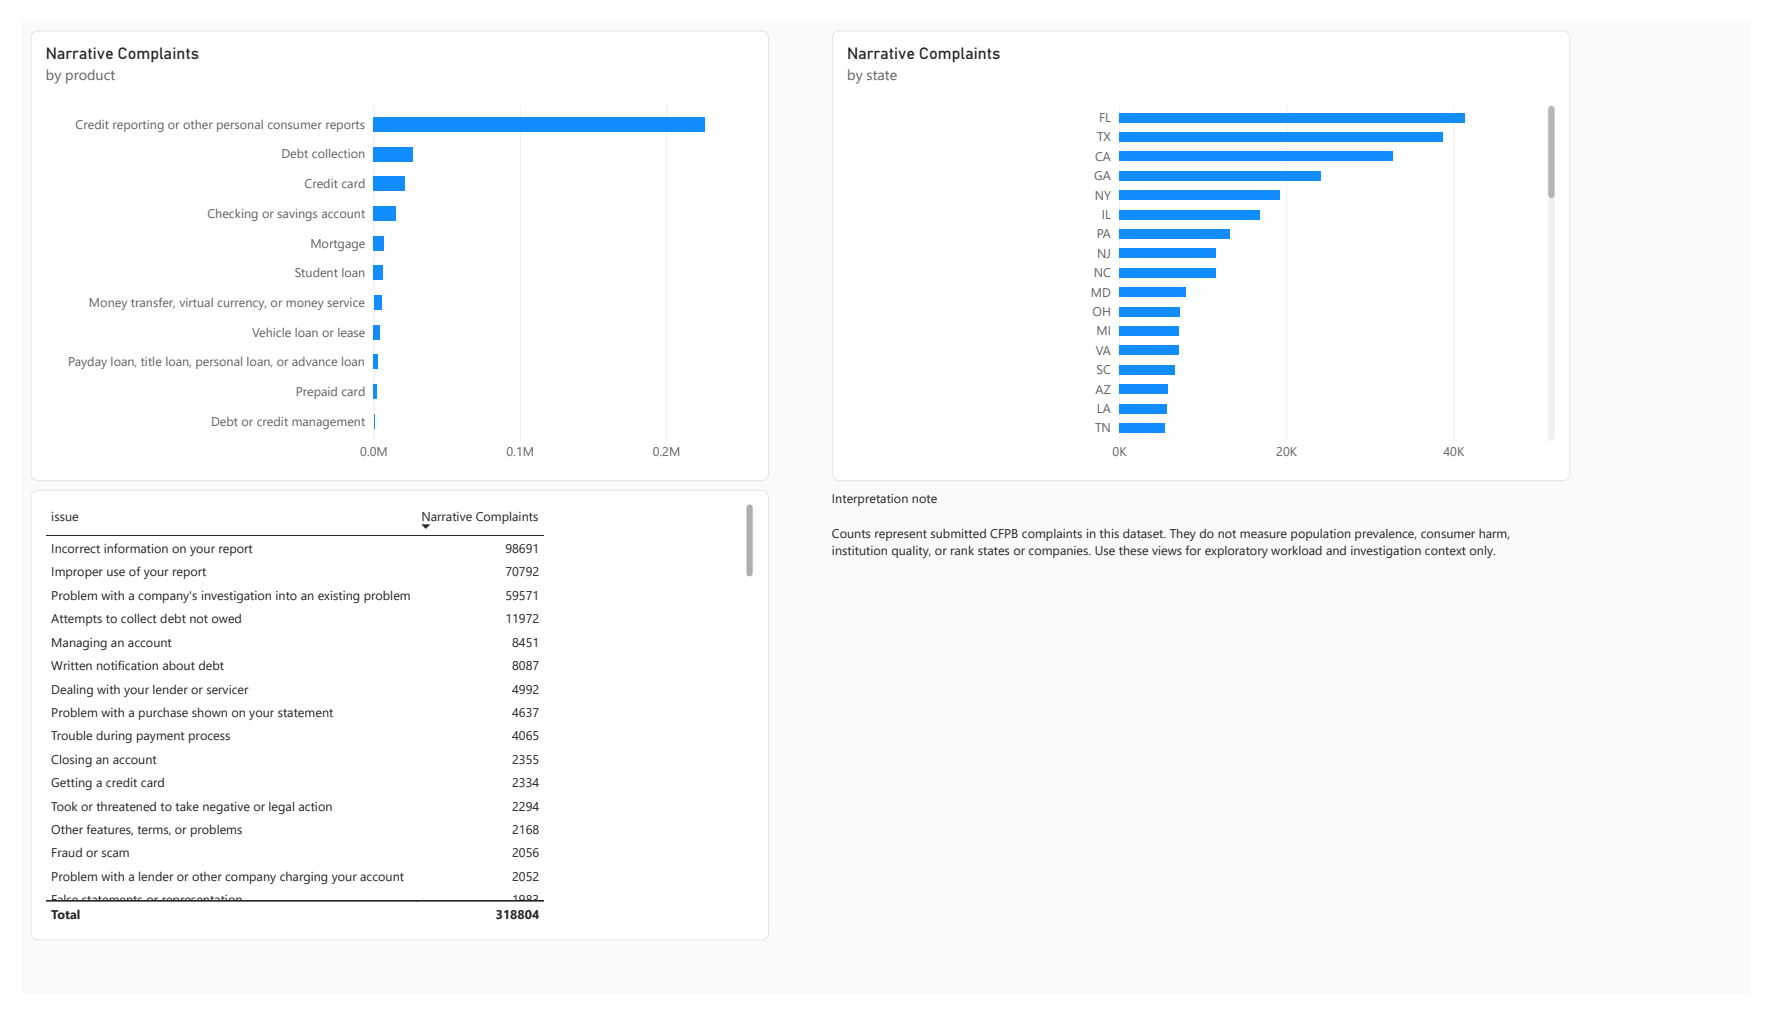

This screenshot's page, from the dashboard's own definition file:
{"tool":"powerbi","page":{"name":"Product & Geography","canvas":[1920,1080],"ordinal":3},"visuals":[{"type":"clusteredBarChart","fields":{"Category":["complaints.product"],"Y":["complaints.Narrative Complaints"]},"box":[10,10,820,500],"z":0},{"type":"clusteredBarChart","fields":{"Category":["complaints.state"],"Y":["complaints.Narrative Complaints"]},"box":[900,10,820,500],"z":1},{"type":"tableEx","fields":{"Values":["complaints.issue","complaints.Narrative Complaints"]},"box":[10,520,820,500],"z":2},{"type":"textbox","box":[900,520,820,500],"z":3}]}

Visuals, with their boxes in screenshot pixels (x1, y1, x2, y2), scaled from the page's 1920x1080 canvas onto the 1772x1016 screenshot:
clusteredBarChart - complaints.product x complaints.Narrative Complaints: [x1=9, y1=9, x2=766, y2=480]
clusteredBarChart - complaints.state x complaints.Narrative Complaints: [x1=831, y1=9, x2=1587, y2=480]
tableEx - complaints.issue x complaints.Narrative Complaints: [x1=9, y1=489, x2=766, y2=960]
textbox: [x1=831, y1=489, x2=1587, y2=960]
